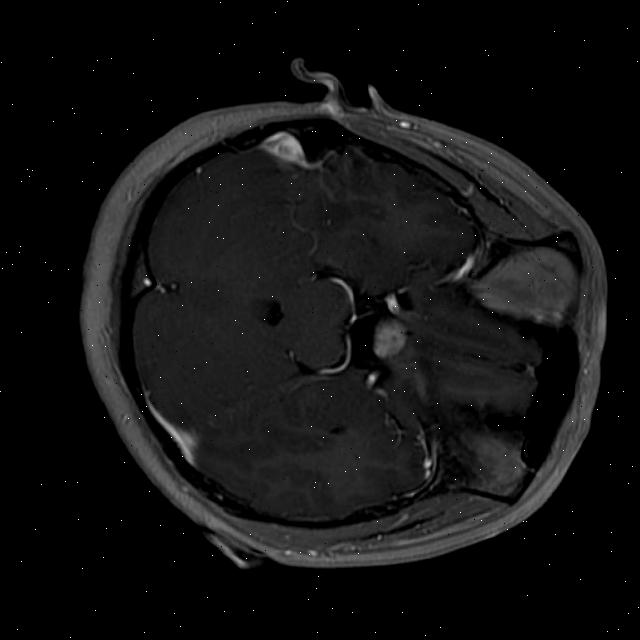Pituitary: (371, 319, 410, 359)
